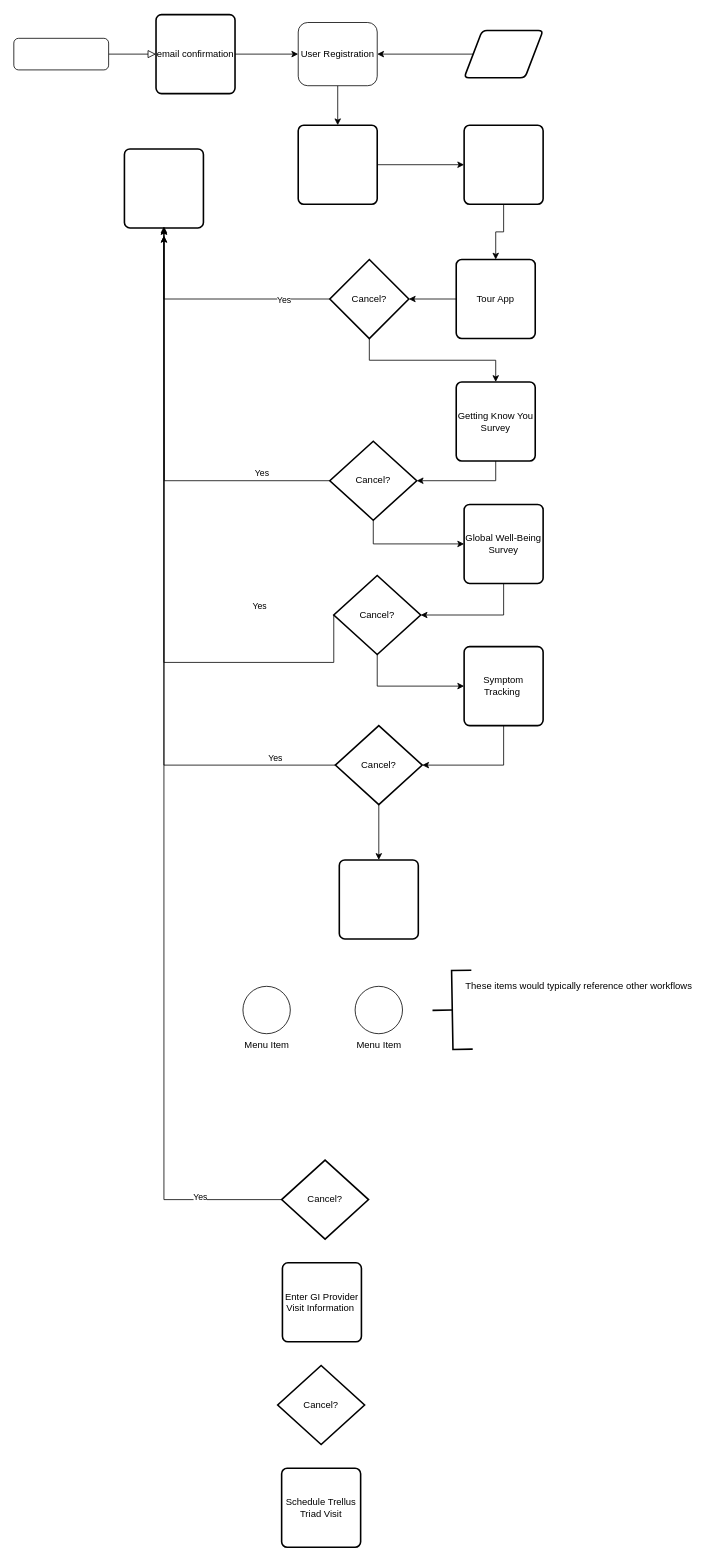
Image size: 715x1561. Some labels were removed from this diagram. Each missing label, with the centre of its shape:
Email from Trellus: the point at 61,54
Enter Disease Infomation: the point at 337,164
Home: the point at 163,188
Home Screen: the point at 378,899
input email and password: the point at 503,53
Positive Affirmation Screen: the point at 503,164
